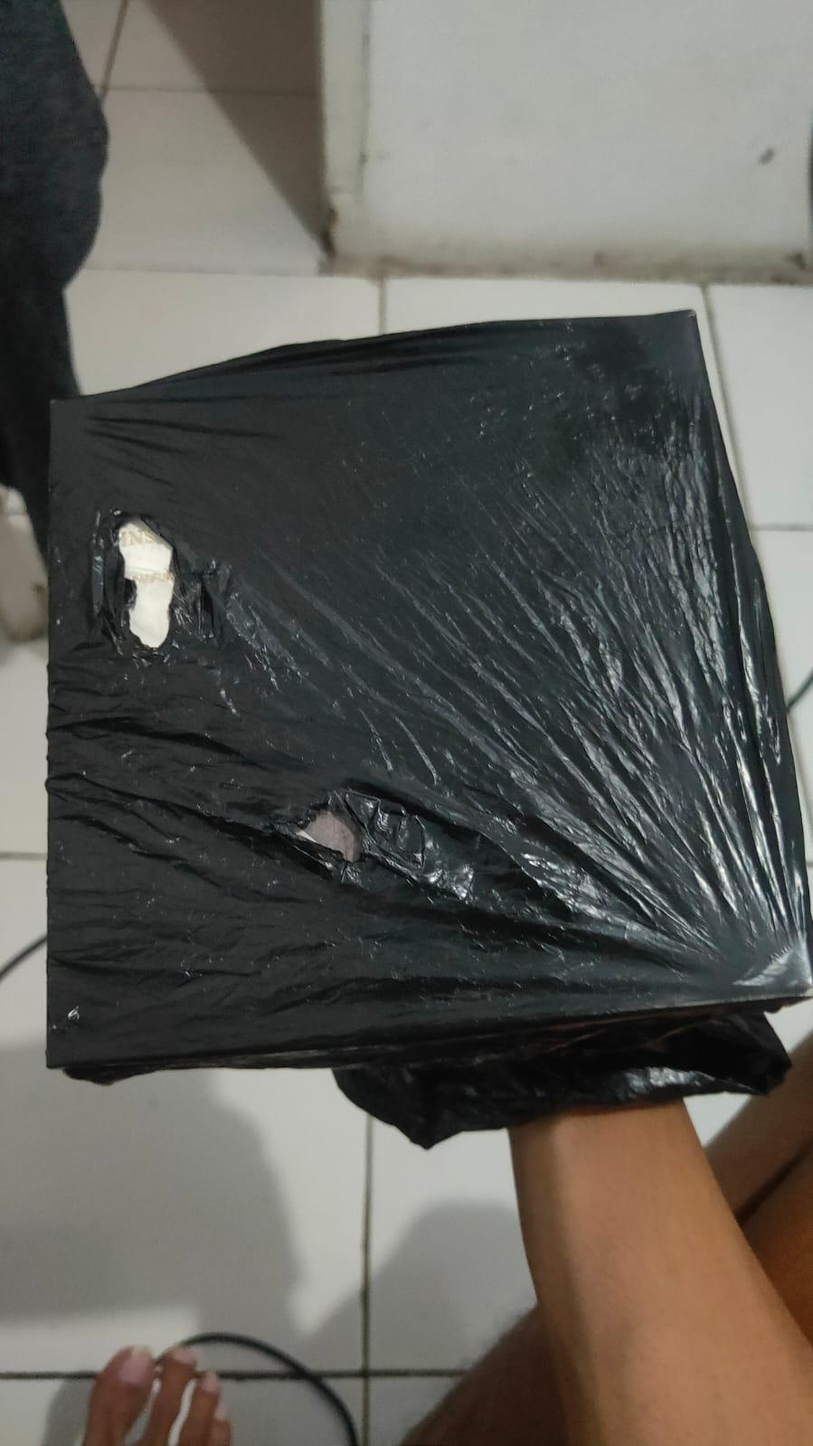damaged package: (95, 506, 188, 676), (262, 791, 368, 890)
undamaged: (16, 300, 811, 1104)
